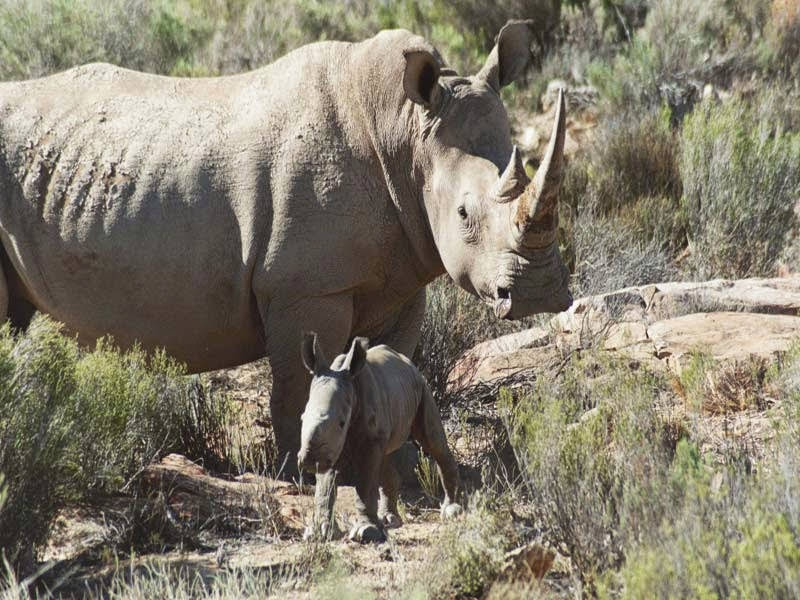rhino: (1, 16, 575, 478), (293, 333, 468, 548)
